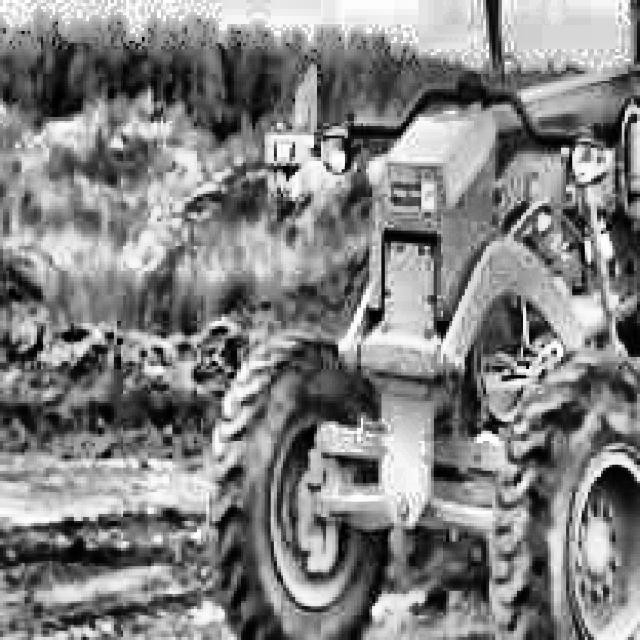excavator: (268, 61, 317, 194)
